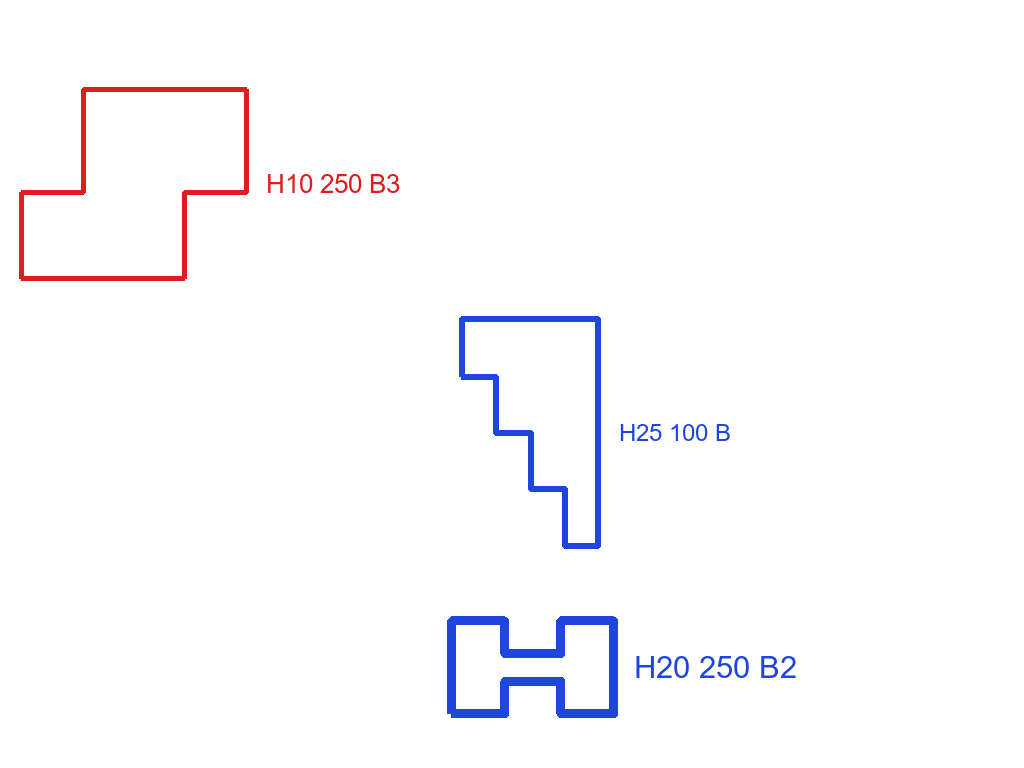shape: (17, 85, 251, 283), (457, 315, 604, 550), (445, 614, 620, 720)
text: (632, 654, 799, 680), (264, 172, 402, 195), (617, 422, 733, 443)
